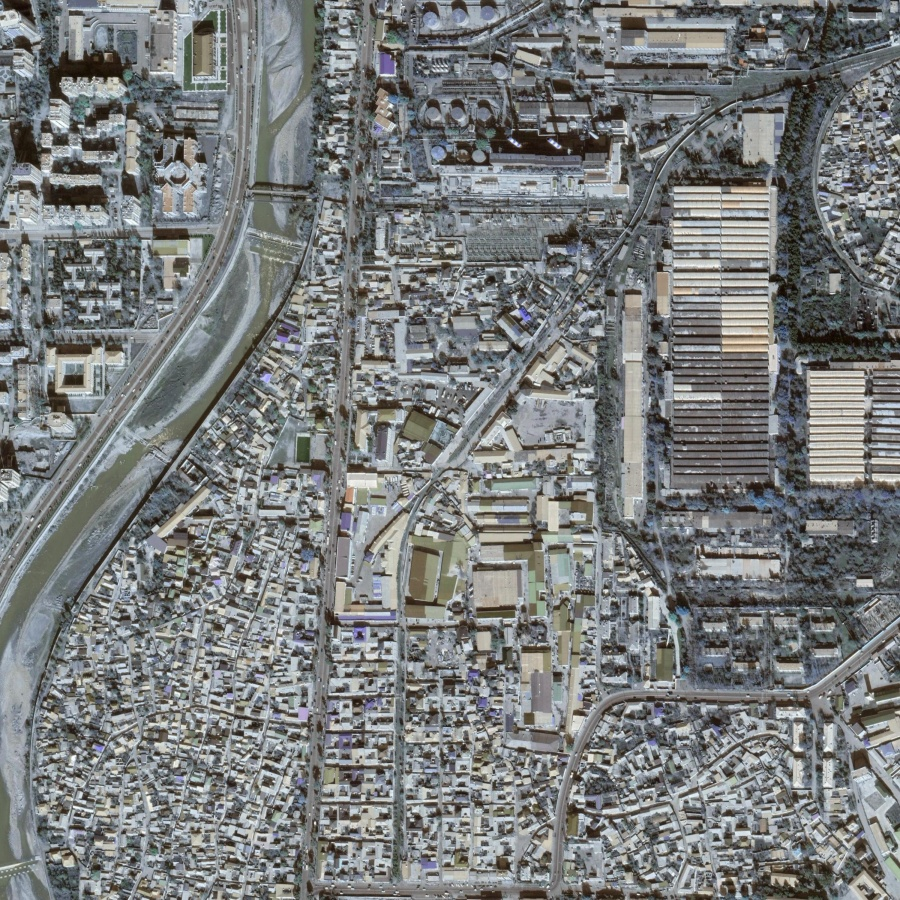PowerPlant: (413, 52, 634, 263)
